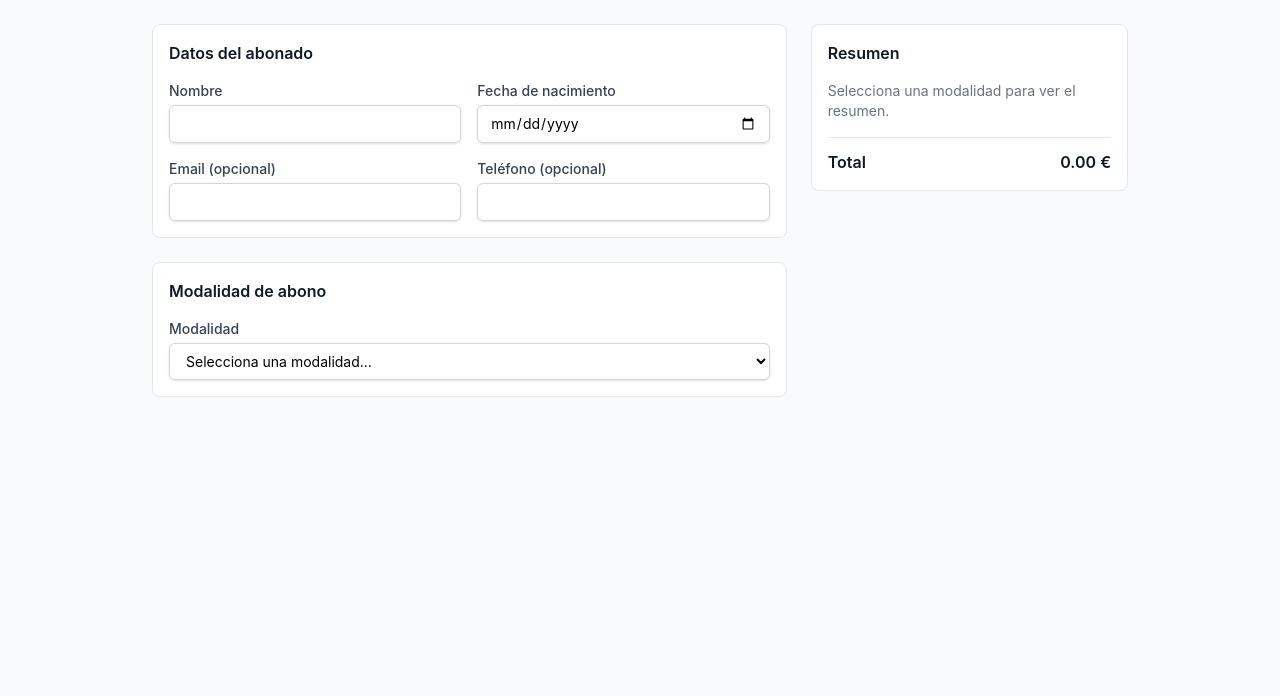
QuoteForm (integración) › añadir el caso dorado a la exportación lo persiste con el agente y el total correctos
Select "Golf Son Muntaner (SM) — 4400 €" in the dropdown labelled "Modalidad" at (469, 362), box [169,343,770,380]
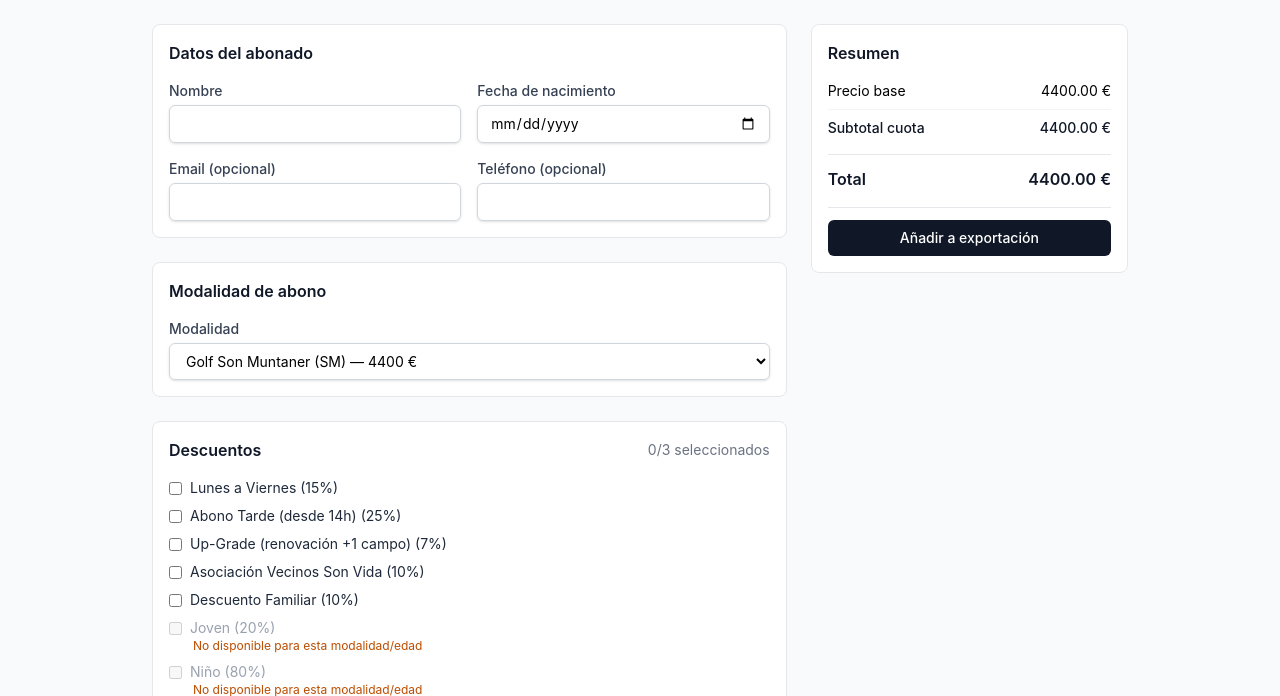
Click the checkbox labelled "Lunes a Viernes (15%)".
click(176, 488)  # box [169,482,182,494]
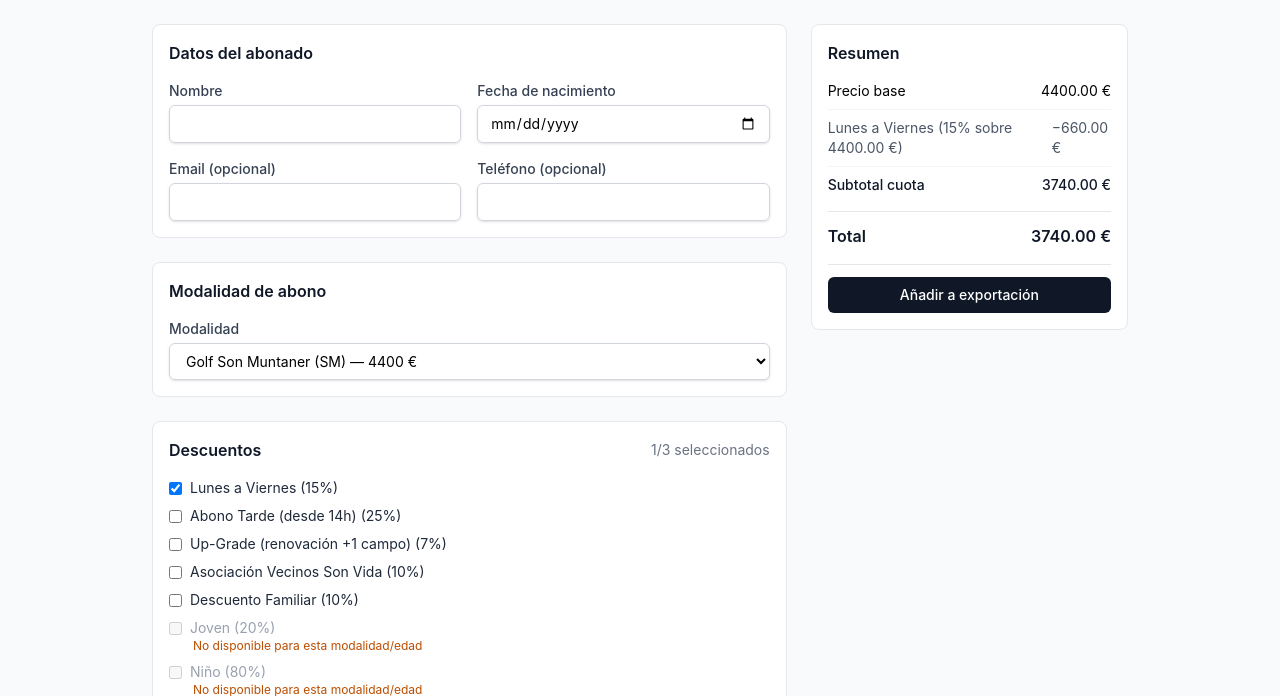
Click the checkbox labelled "Abono Tarde (desde 14h) (25%)".
click(176, 516)  # box [169,510,182,522]
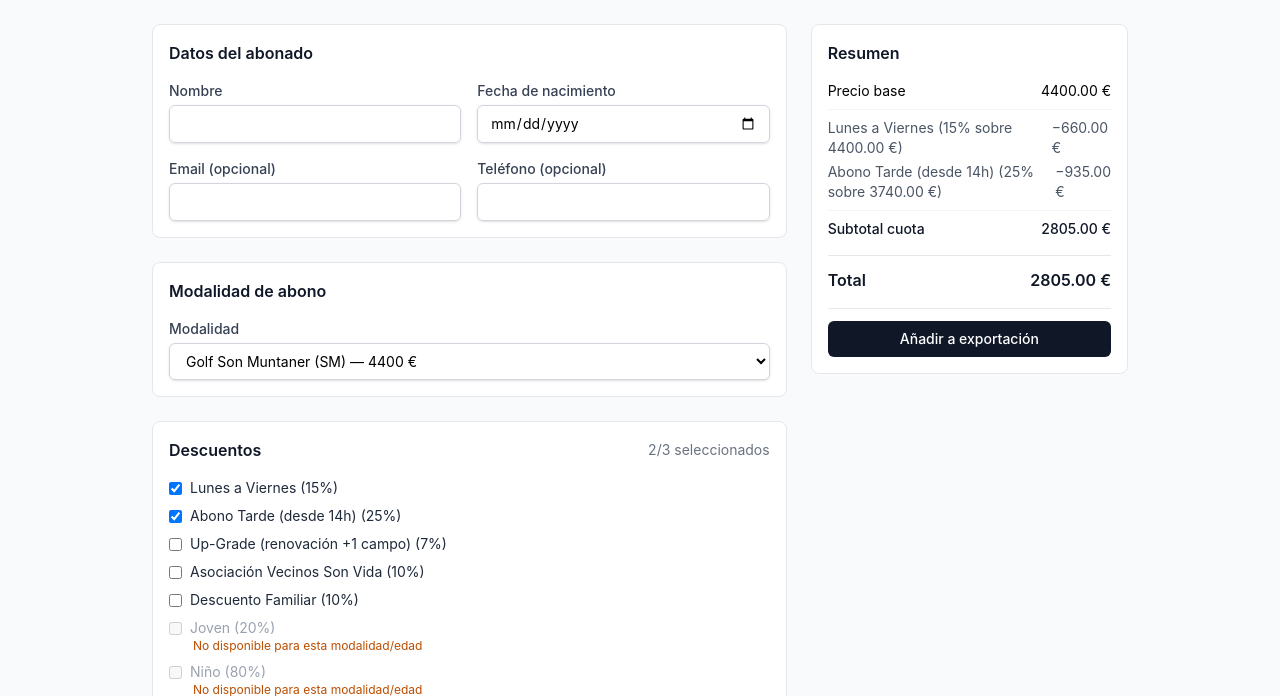
Click the checkbox labelled "Descuento Familiar (10%)".
click(176, 600)  # box [169,594,182,606]
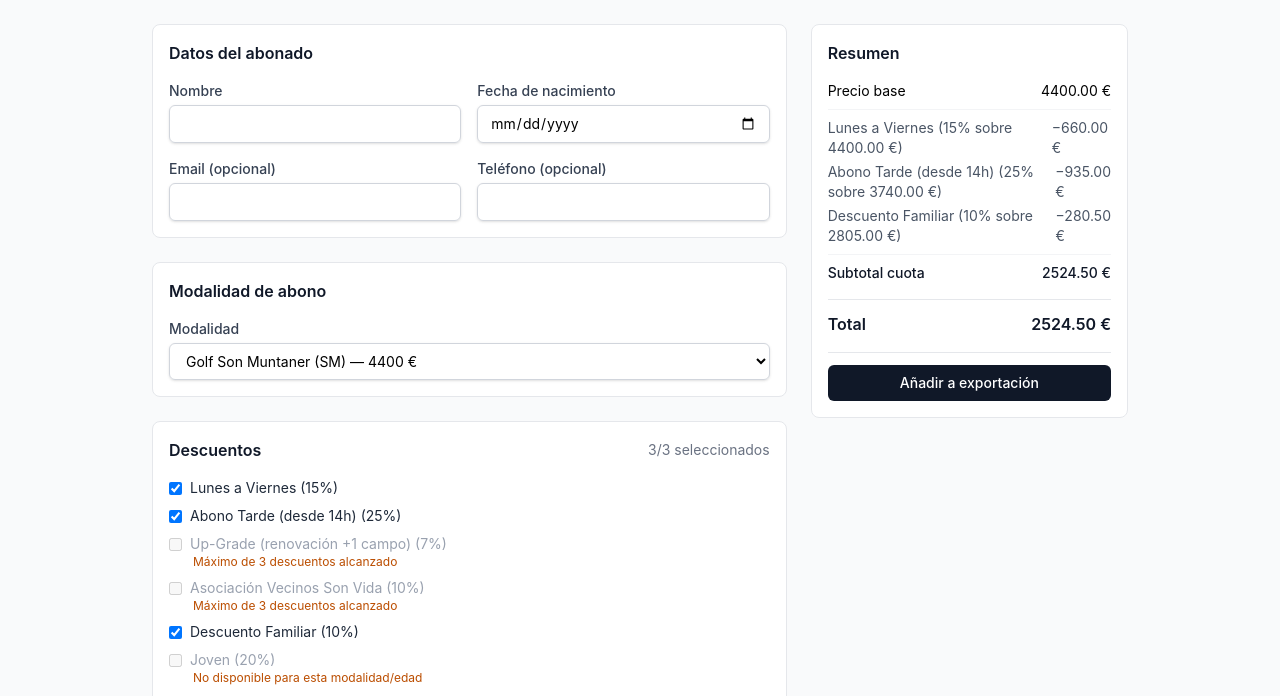
Click the button "Añadir a exportación".
click(969, 383)  # box [828,365,1111,401]
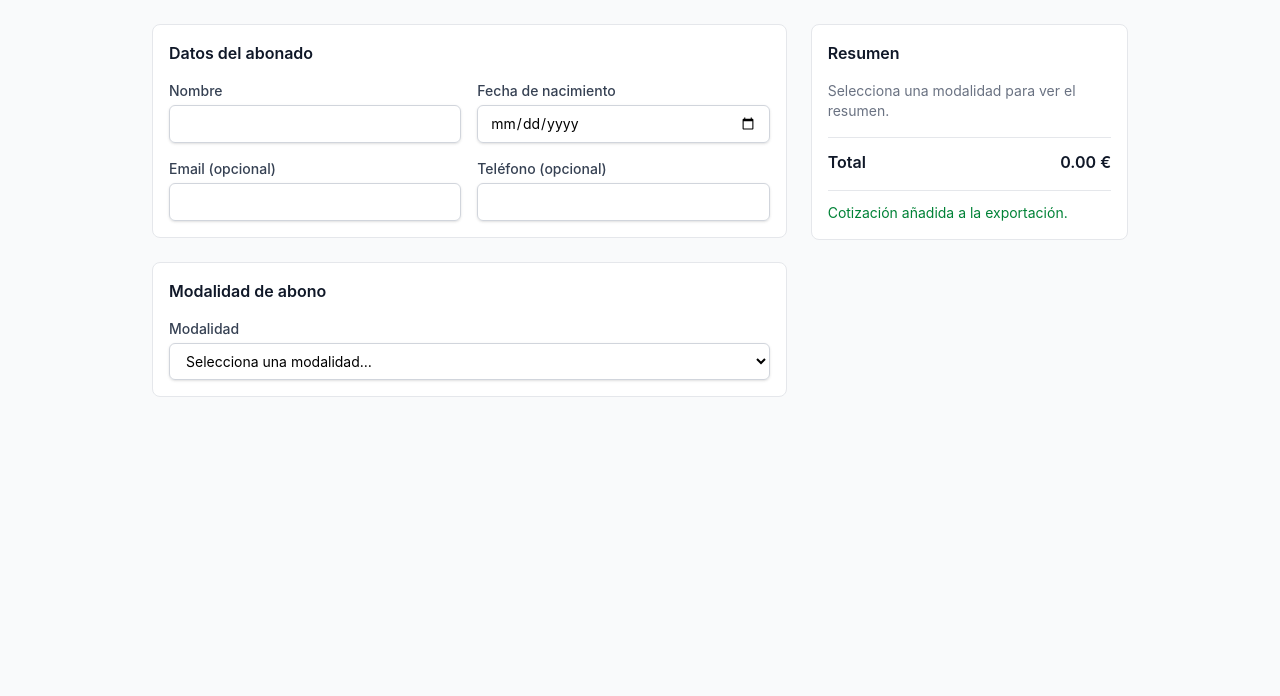
Now the message shows "exportación", box [828,204,1068,221]
